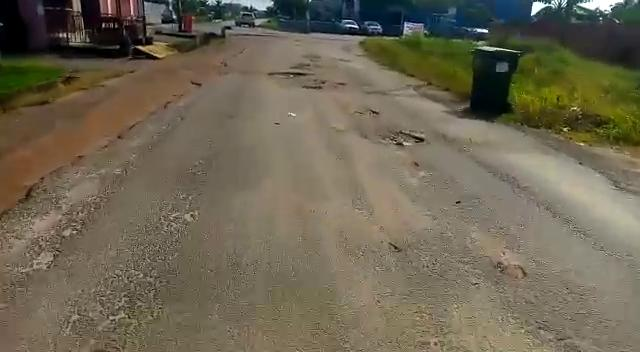pothole: (374, 129, 428, 147), (268, 69, 308, 77), (301, 83, 321, 92)
